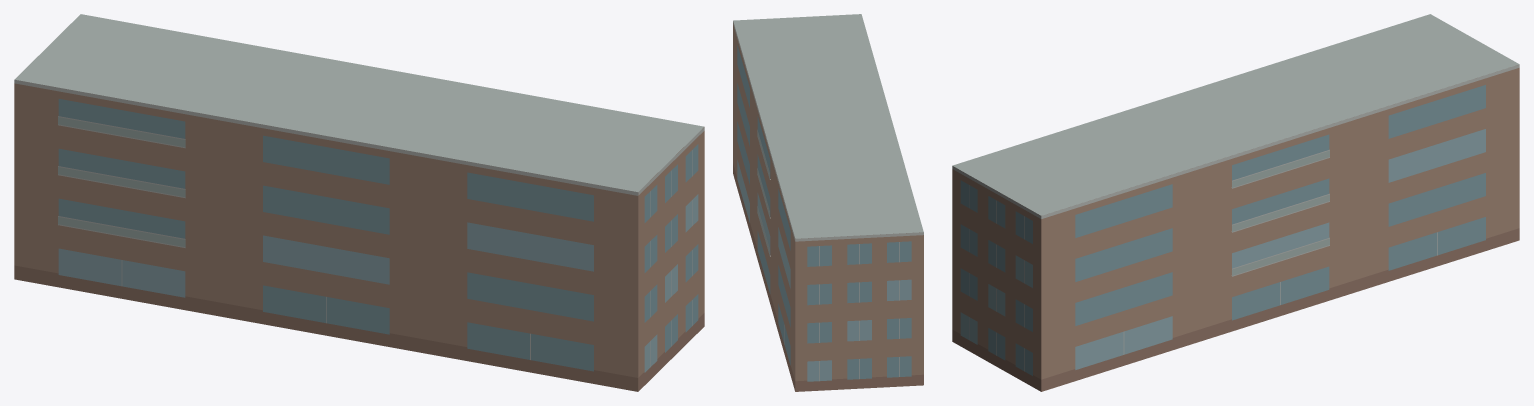
File: residential-15eb2286-0d6c-4ba0-a31c-c631c1a887c2.glb
The picture shows the model from 3 angles, left to right: view 1: azimuth 30°, elevation 25°; view 2: azimuth 150°, elevation 25°; view 3: azimuth 270°, elevation 25°; orthographic projection. The views are drawn at different scales.
Visible parts, largest first — view 1: residential-15eb2286-0d6c-4ba0-a31c-c631c1a887c2.tmp; view 2: residential-15eb2286-0d6c-4ba0-a31c-c631c1a887c2.tmp; view 3: residential-15eb2286-0d6c-4ba0-a31c-c631c1a887c2.tmp.
Part boxes in pixels (left/top/right/bottom): residential-15eb2286-0d6c-4ba0-a31c-c631c1a887c2.tmp: left=14, top=14, right=704, bottom=391; residential-15eb2286-0d6c-4ba0-a31c-c631c1a887c2.tmp: left=733, top=14, right=923, bottom=391; residential-15eb2286-0d6c-4ba0-a31c-c631c1a887c2.tmp: left=952, top=14, right=1519, bottom=391.
Bounding box in the file's own units: 31.99 × 13 × 37.99.
